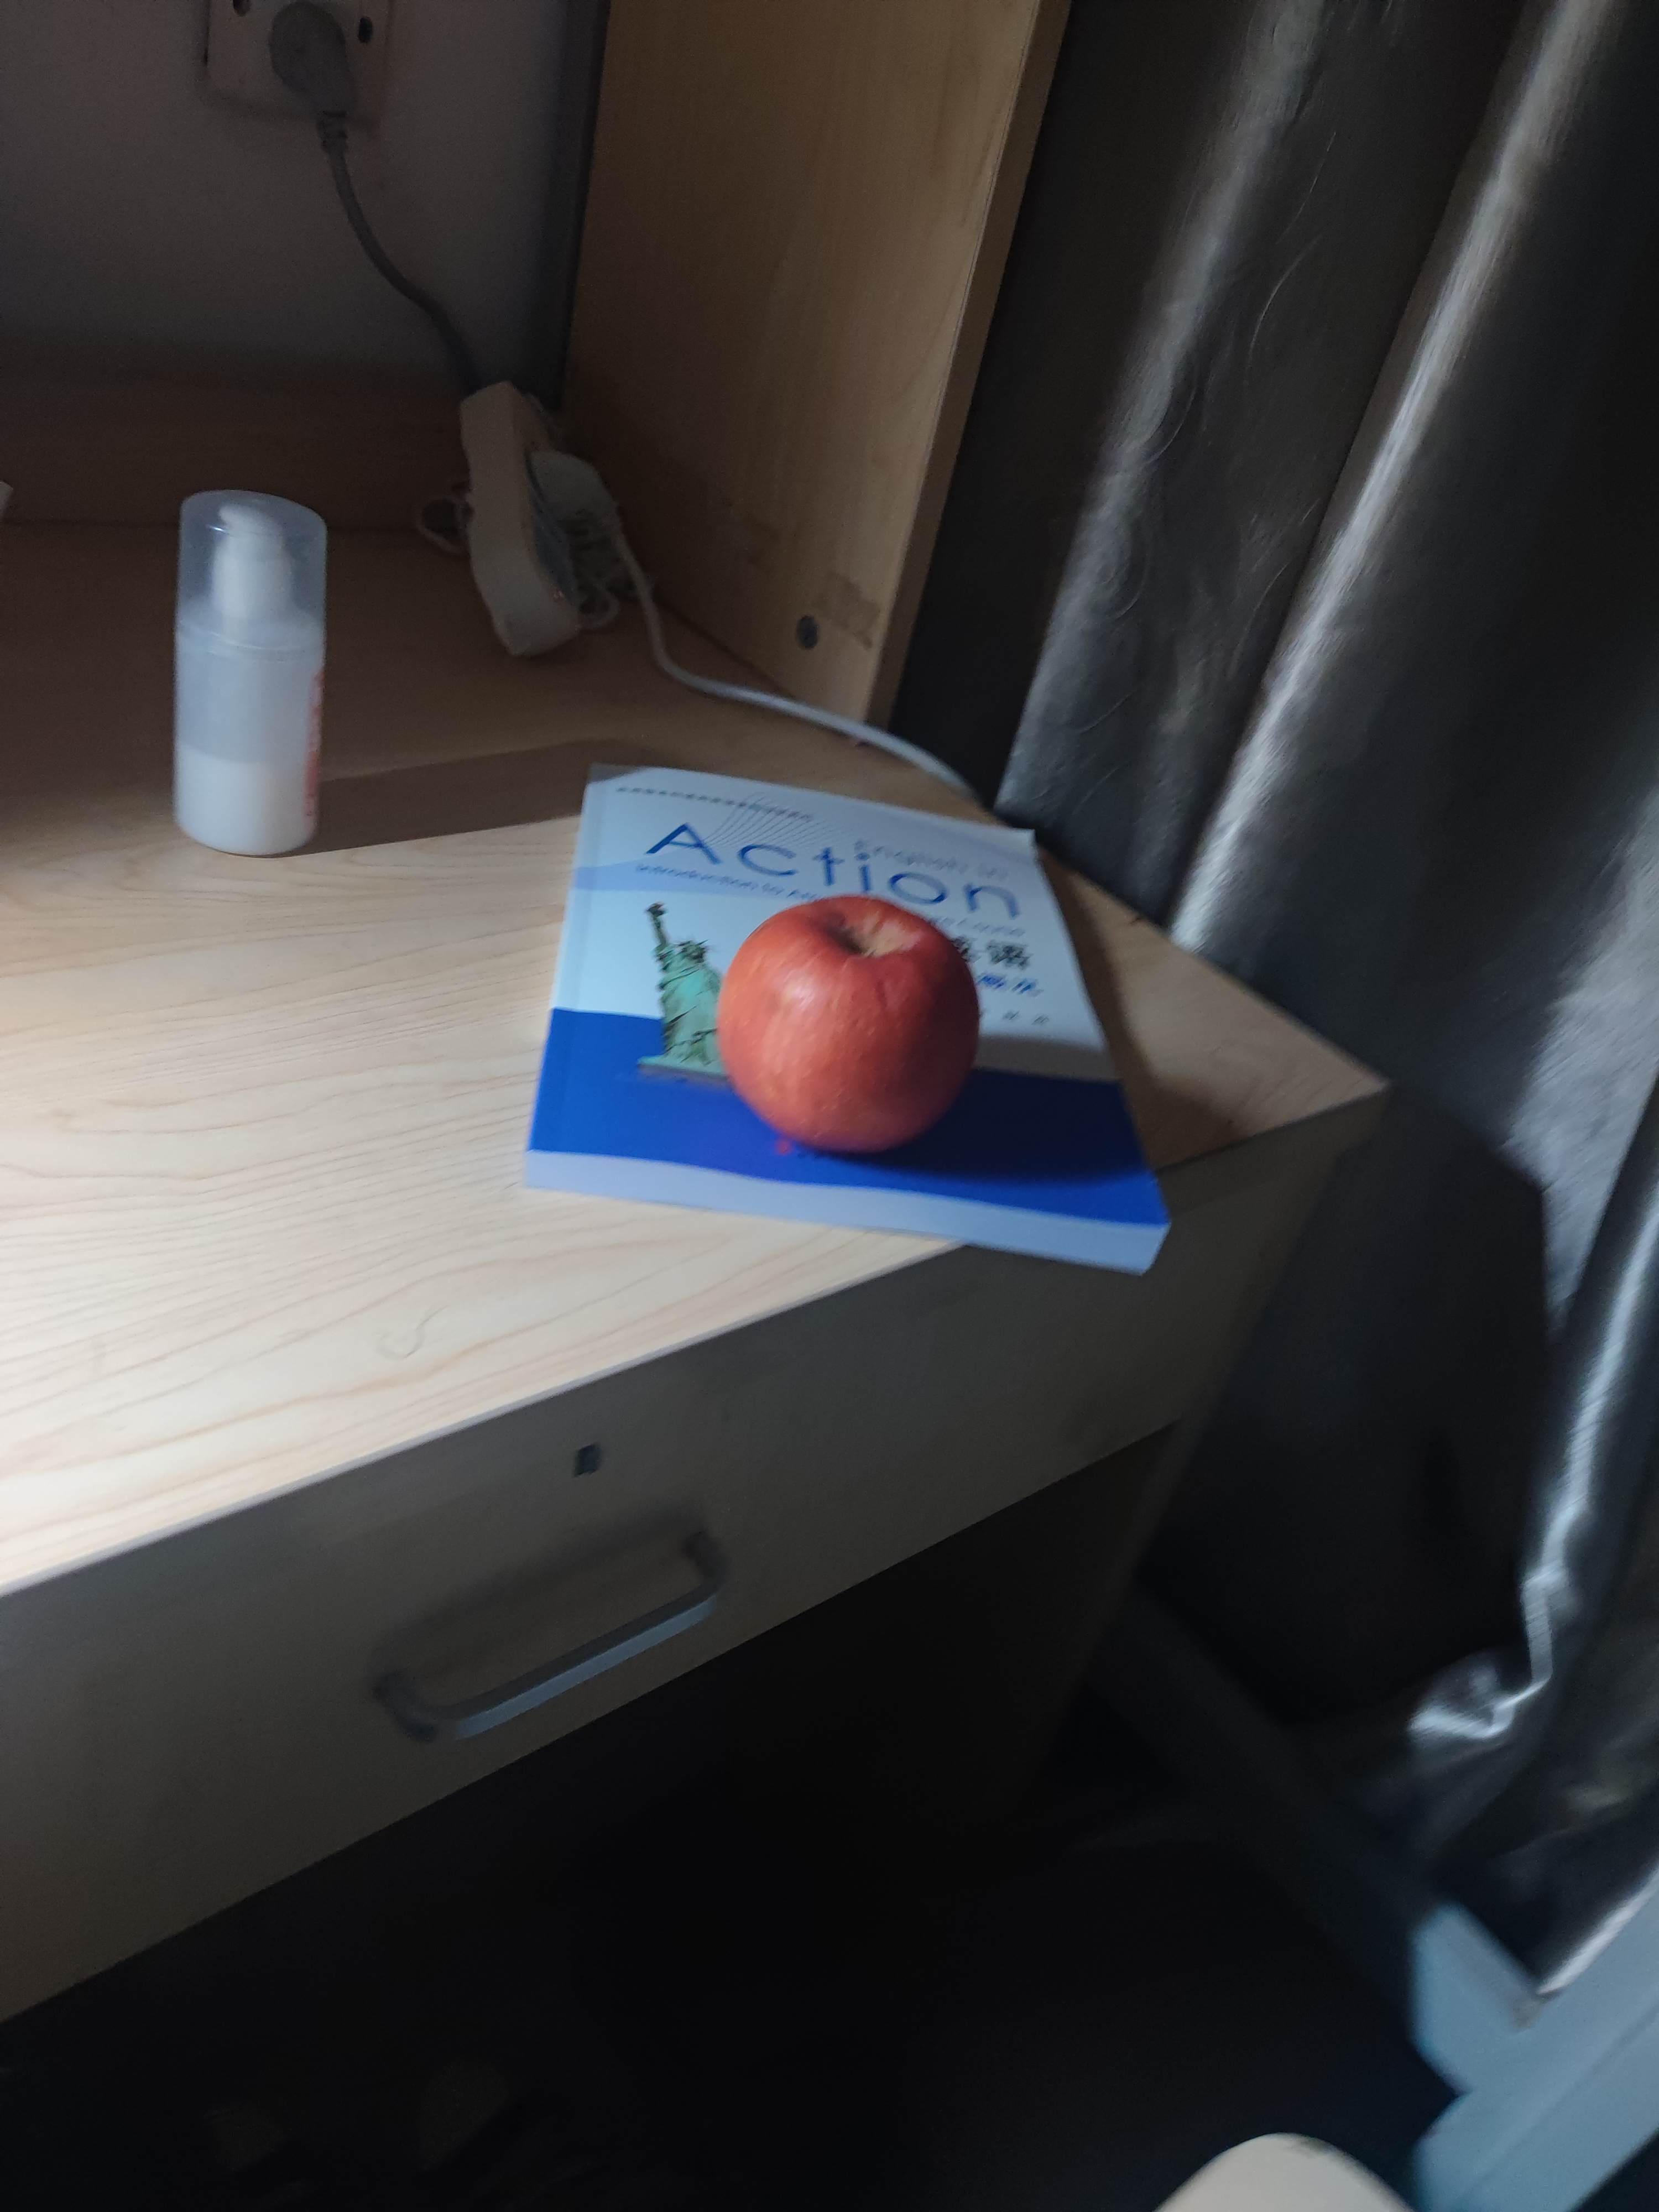apple: (721, 892, 986, 1141)
